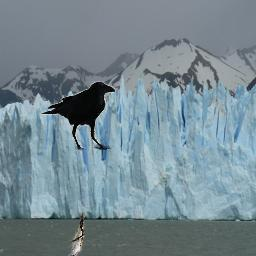Crow: (41, 82, 116, 151)
Cuckoo: (69, 212, 86, 256)
